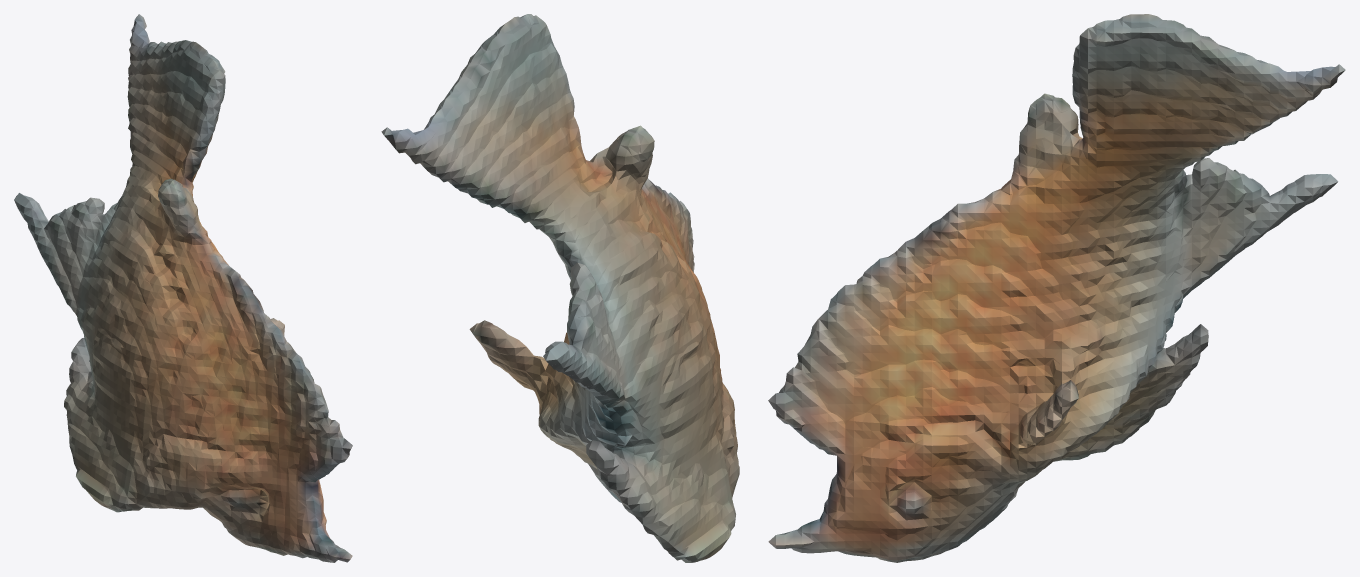
The picture shows the model from 3 angles, left to right: view 1: azimuth 30°, elevation 25°; view 2: azimuth 150°, elevation 25°; view 3: azimuth 270°, elevation 25°; orthographic projection. The views are drawn at different scales.
Parts seen in each view (by area): view 1: world; view 2: world; view 3: world.
Part boxes in pixels (<box>): world: <box>14,14,352,562</box>; world: <box>381,14,739,562</box>; world: <box>768,14,1345,562</box>.
Bounding box in the file's own units: 0.4505 × 0.9676 × 0.9134.
